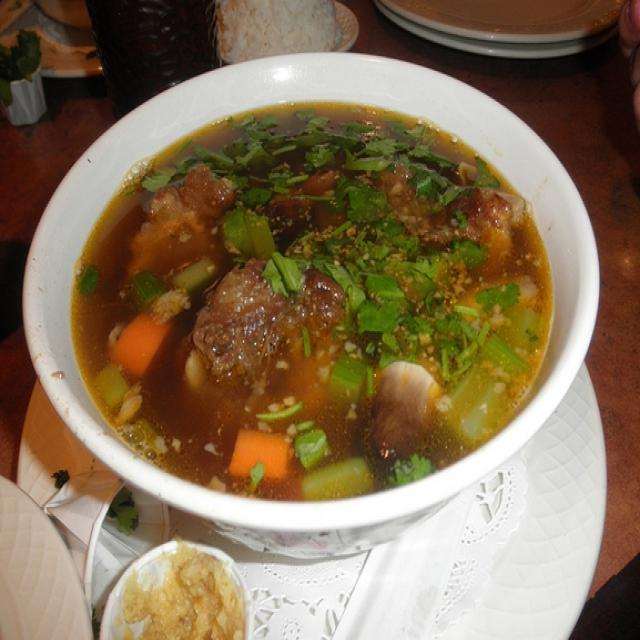汤锅炖物: (26, 55, 584, 528)
